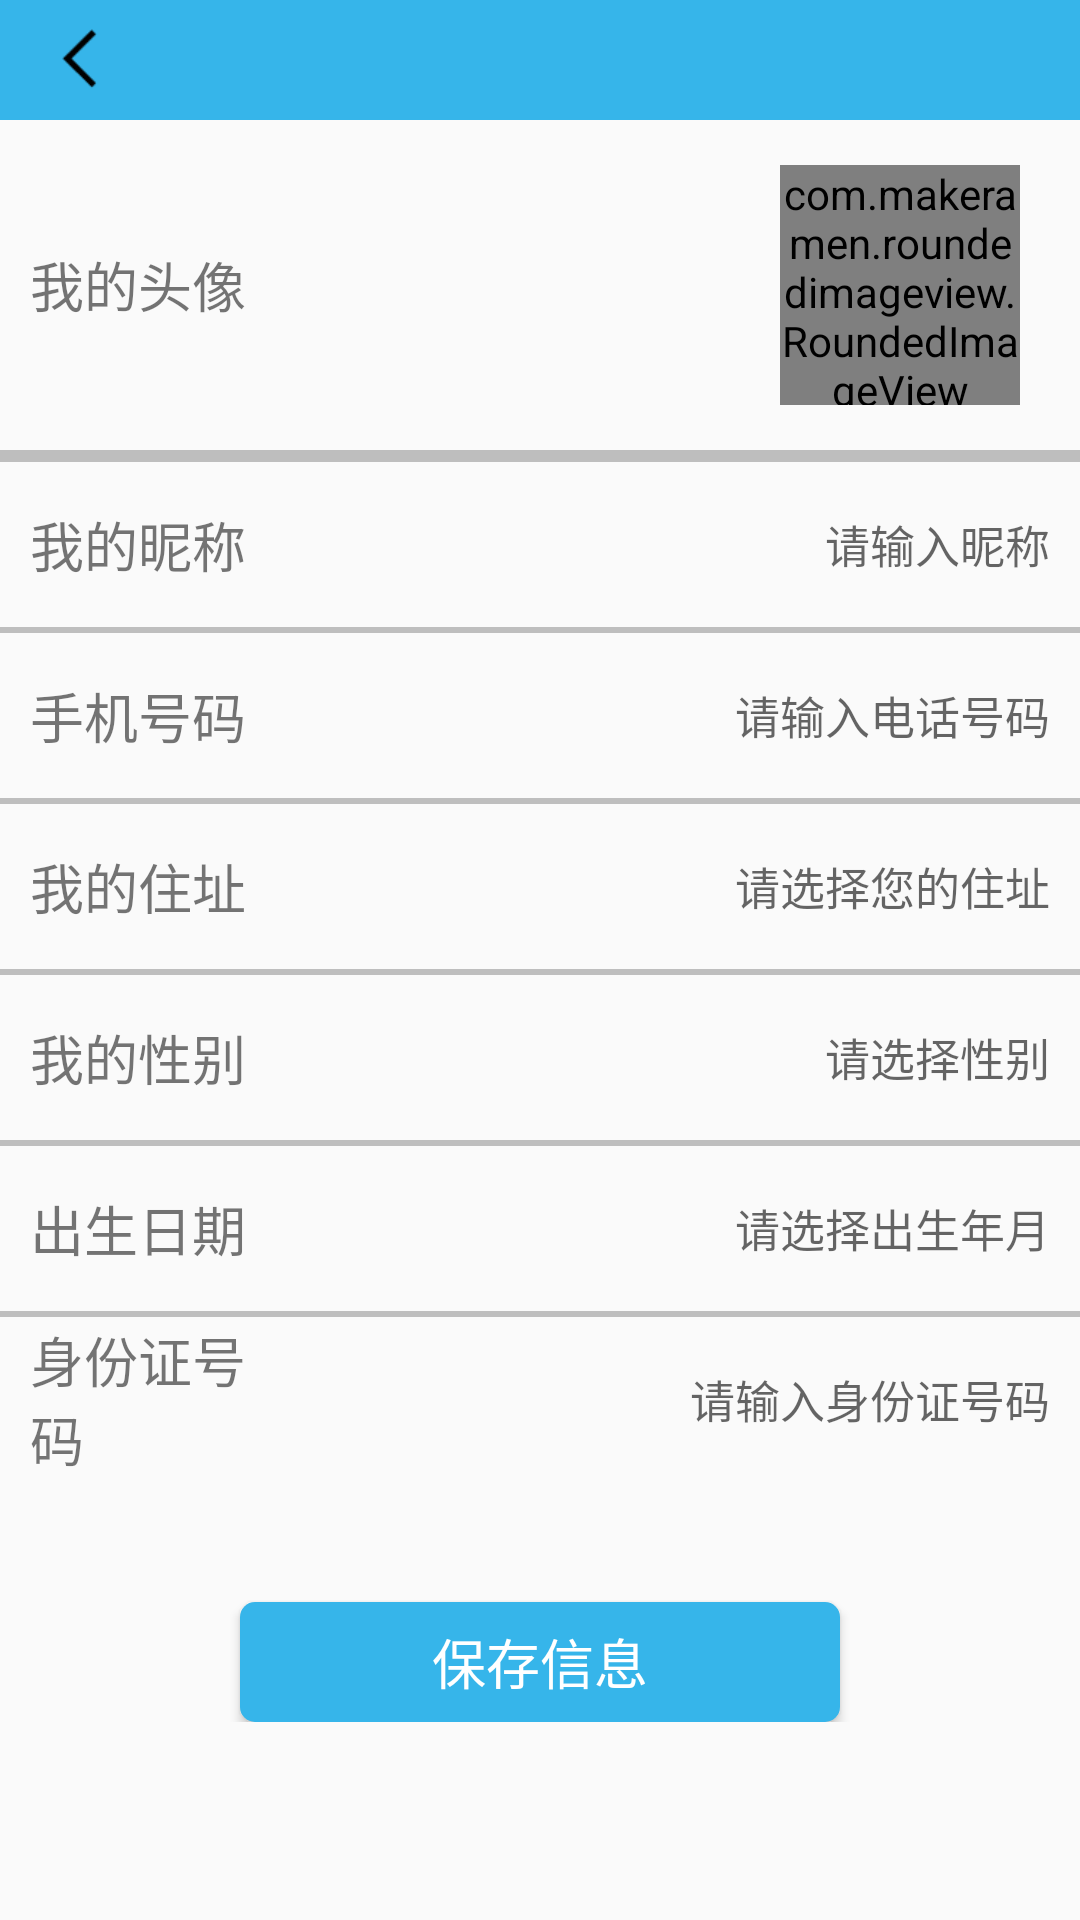

Point at icon controls on the screen. Image size 1080 × 1920, points as (x,y).
mine leftarrow: (79,58)
